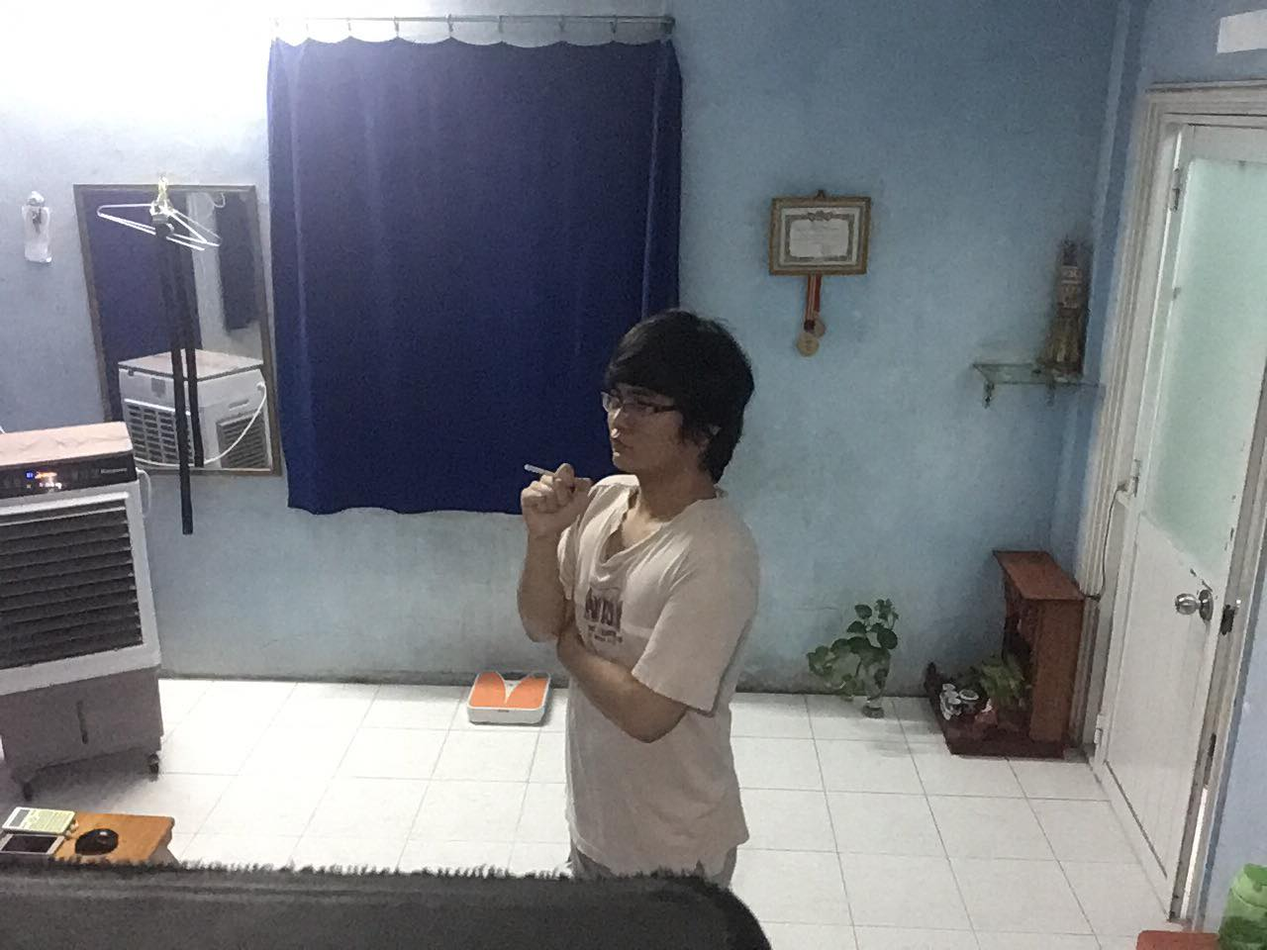cigarette: (521, 460, 555, 479)
person: (514, 309, 773, 913)
